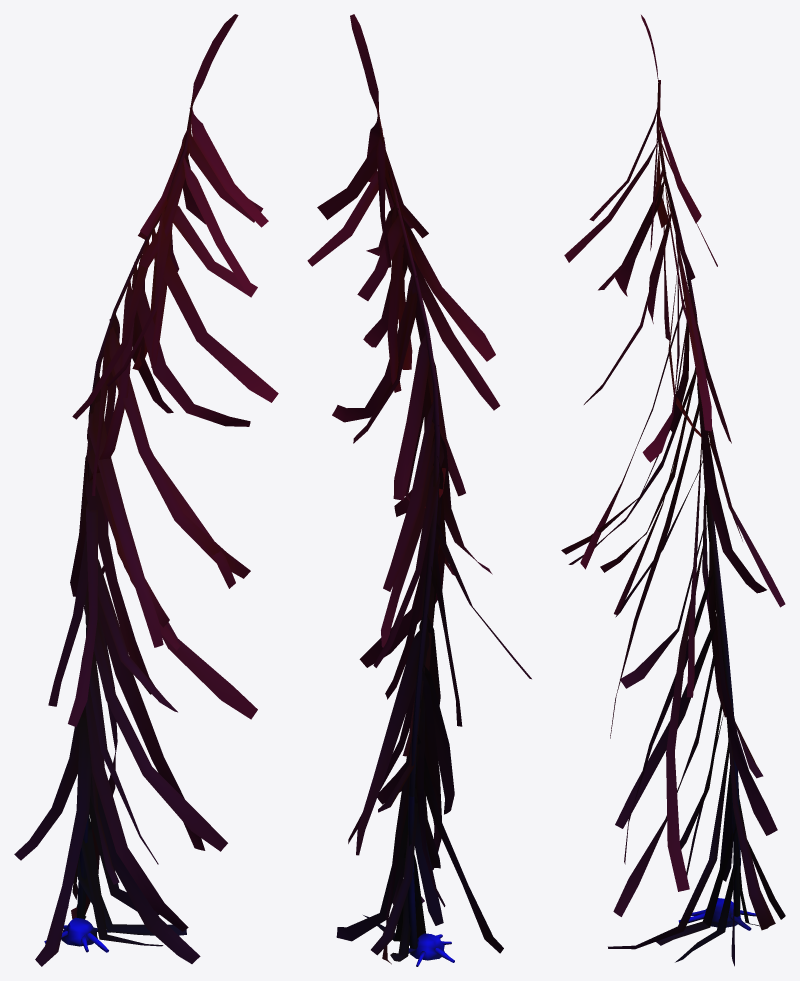
Rendered from MESH_Flora_Kelp_s4021_q050.fbx.
3 renders of one model, left to right at view 1: azimuth 30°, elevation 25°; view 2: azimuth 150°, elevation 25°; view 3: azimuth 270°, elevation 25°, orthographic. The views are drawn at different scales.
Visible parts, largest first — view 1: MESH_Flora_Kelp_s4021_q050_LOD0; view 2: MESH_Flora_Kelp_s4021_q050_LOD0; view 3: MESH_Flora_Kelp_s4021_q050_LOD0.
Boxes of the visible parts, box(x1,y1,x2,y2) form: MESH_Flora_Kelp_s4021_q050_LOD0: box(14, 14, 278, 966); MESH_Flora_Kelp_s4021_q050_LOD0: box(307, 14, 531, 966); MESH_Flora_Kelp_s4021_q050_LOD0: box(561, 15, 785, 966).
Size of what is drawn, in the model's own units: 222 by 927 by 196.
